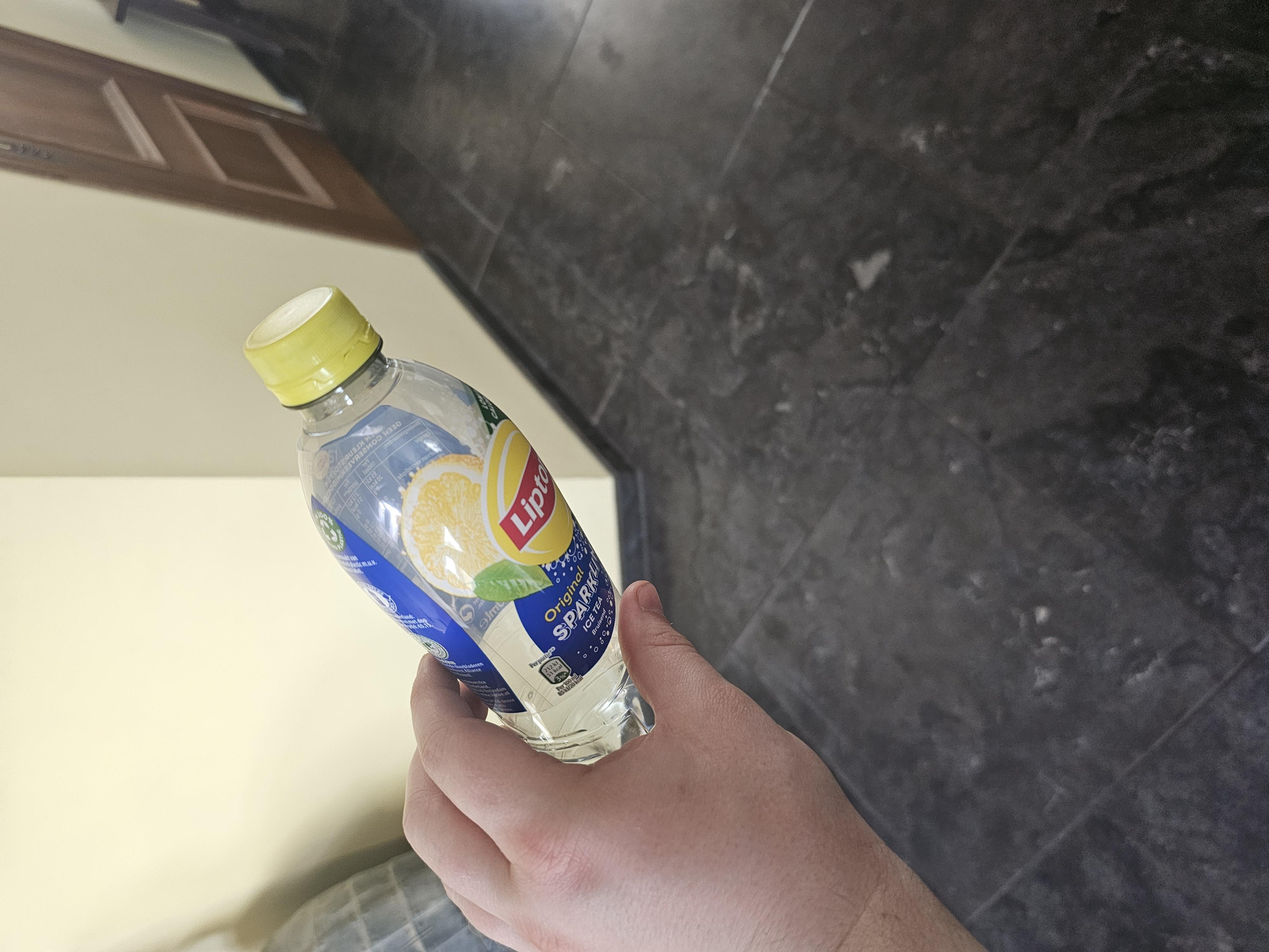Plastic: (247, 181, 894, 495)
